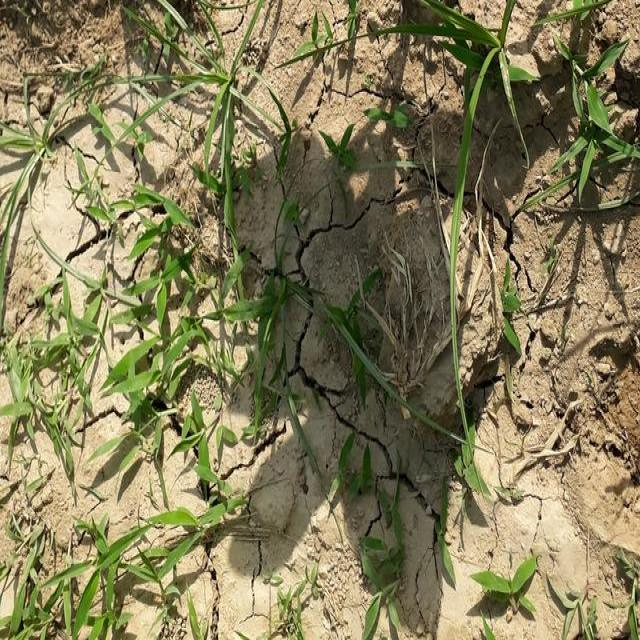weed: (94, 186, 233, 487), (385, 5, 640, 165), (0, 501, 191, 639)
